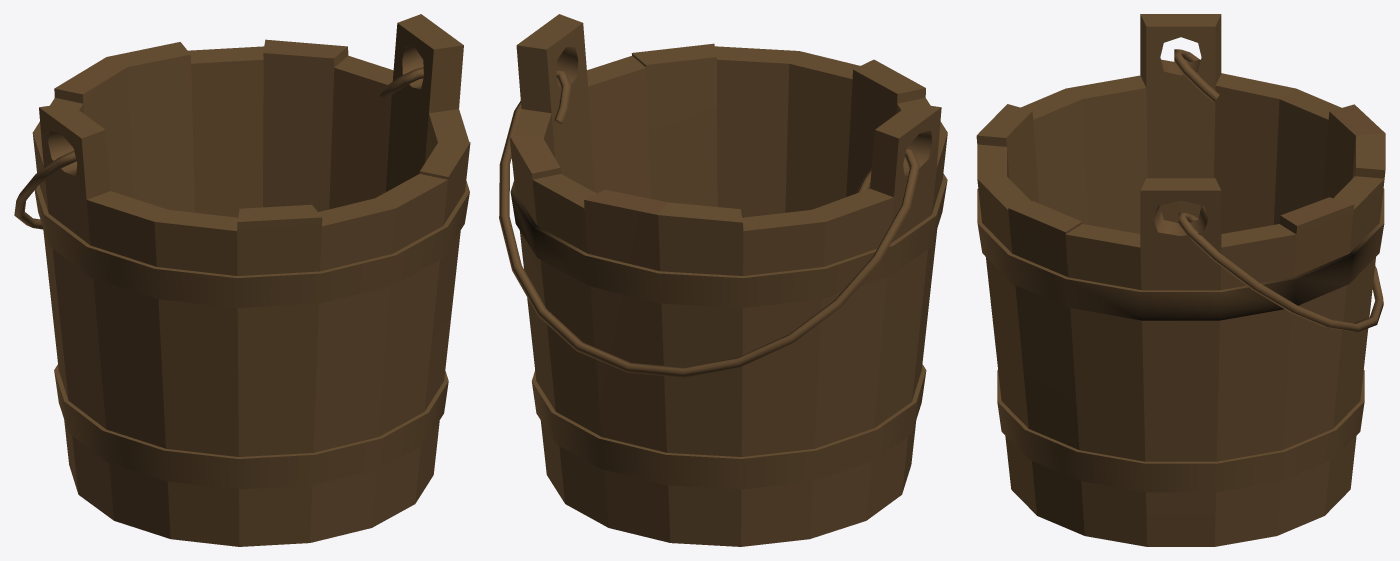
The model's file is Secchio.fbx.
The picture shows the model from 3 angles, left to right: view 1: azimuth 30°, elevation 25°; view 2: azimuth 150°, elevation 25°; view 3: azimuth 270°, elevation 25°; orthographic projection. The views are drawn at different scales.
Visible parts, largest first — view 1: Circle; view 2: Circle; view 3: Circle.
Part boxes in pixels (x1,y1,x2,y2): Circle: (14, 14, 470, 546); Circle: (499, 14, 947, 546); Circle: (976, 14, 1385, 546).
Bounding box in the file's own units: 37.61 × 35.66 × 35.45.
